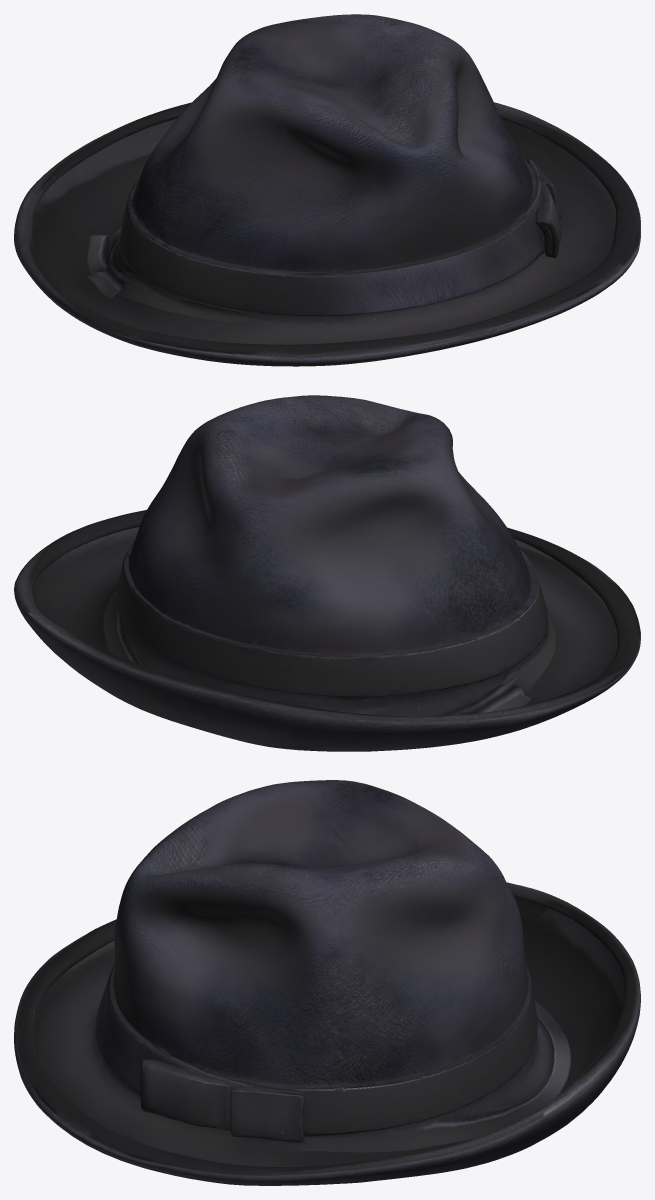
The model's file is jazz-fedora.glb.
3 renders of one model, top to bottom at view 1: azimuth 30°, elevation 25°; view 2: azimuth 150°, elevation 25°; view 3: azimuth 270°, elevation 25°, orthographic. The views are drawn at different scales.
Parts seen in each view (by area): view 1: tripo_node_1e9a7f4d-d22d-469e-8cea-fbbd6da3983d; view 2: tripo_node_1e9a7f4d-d22d-469e-8cea-fbbd6da3983d; view 3: tripo_node_1e9a7f4d-d22d-469e-8cea-fbbd6da3983d.
Boxes of the visible parts, bbox=[...] form: tripo_node_1e9a7f4d-d22d-469e-8cea-fbbd6da3983d: bbox=[14, 14, 640, 366]; tripo_node_1e9a7f4d-d22d-469e-8cea-fbbd6da3983d: bbox=[14, 395, 640, 751]; tripo_node_1e9a7f4d-d22d-469e-8cea-fbbd6da3983d: bbox=[14, 780, 640, 1185].
Bounding box in the file's own units: 1.63 × 0.6027 × 1.42.
1 material, 1 textured.
